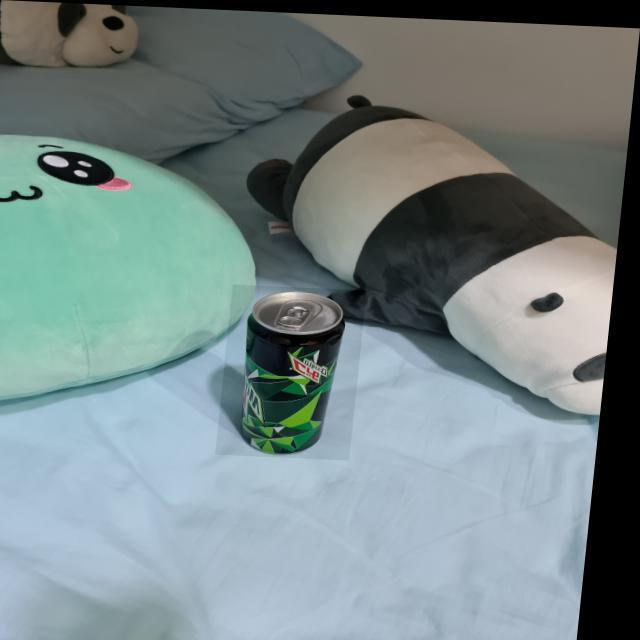trash: (232, 287, 350, 458)
